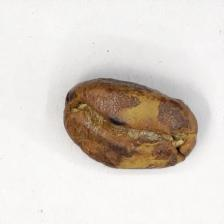NG: (62, 77, 196, 169)
